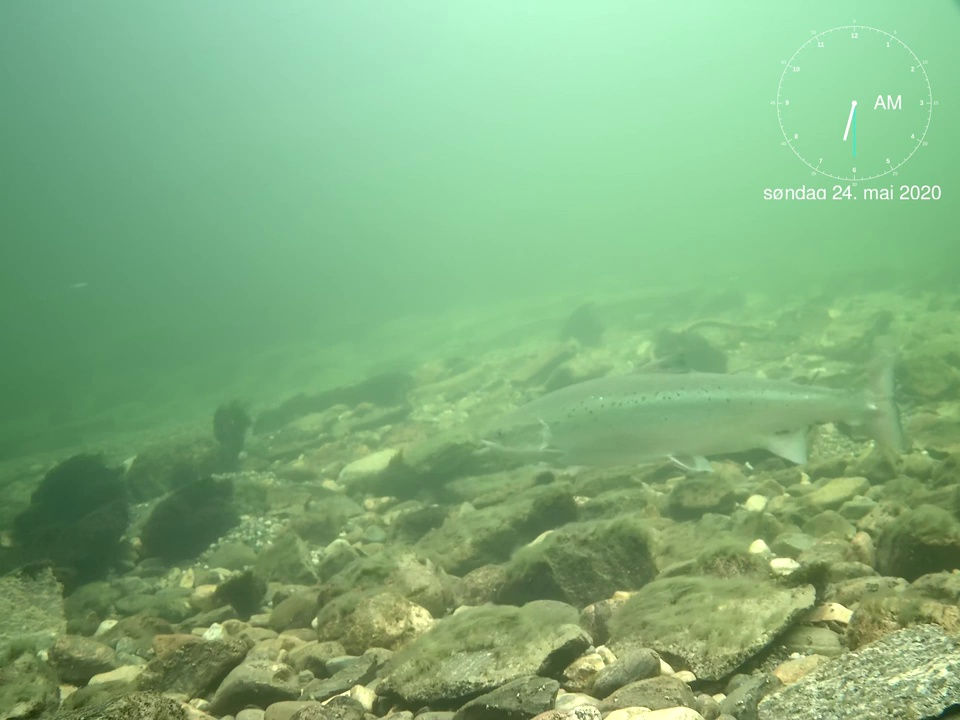salmon: (477, 345, 911, 476)
